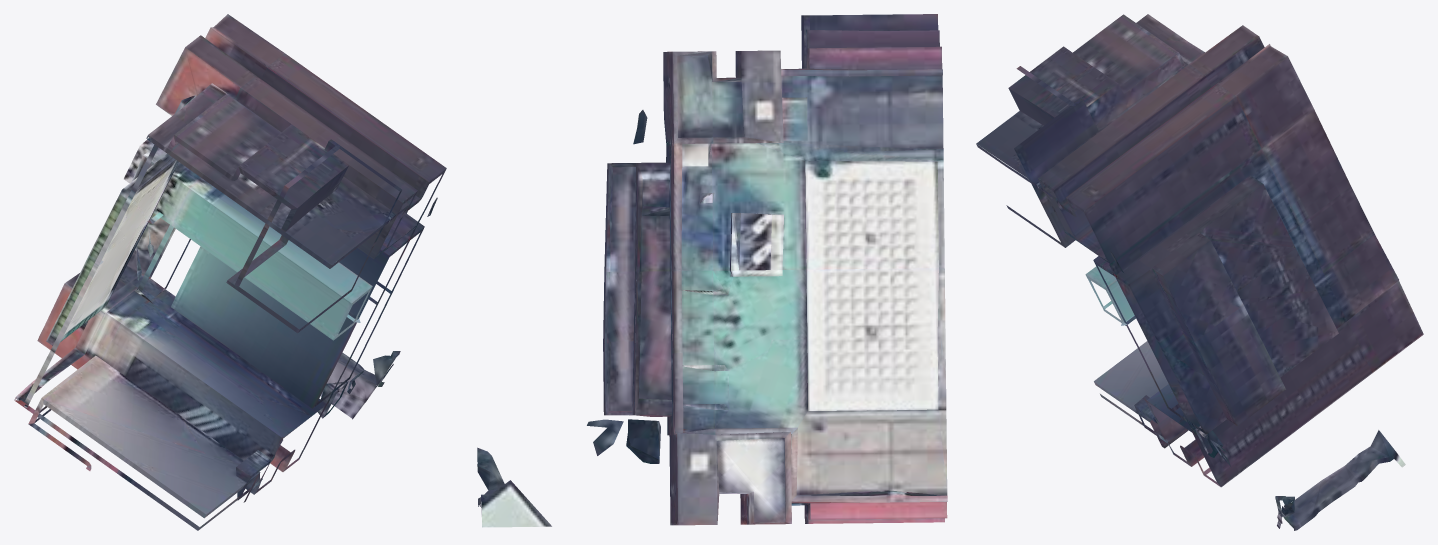
The picture shows the model from 3 angles, left to right: view 1: azimuth 30°, elevation 25°; view 2: azimuth 150°, elevation 25°; view 3: azimuth 270°, elevation 25°; orthographic projection. The views are drawn at different scales.
Bounding box in the file's own units: 40.43 × 42.78 × 41.68.
2 materials, 2 textured.
